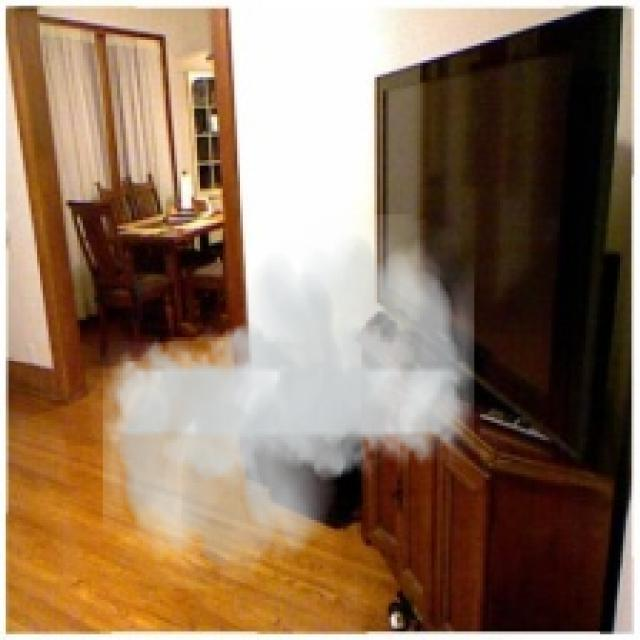smoke: (103, 214, 474, 589)
